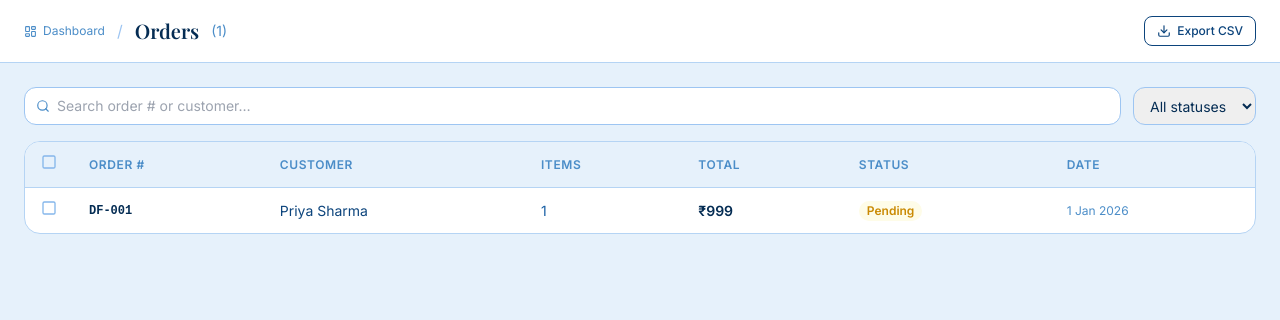
Test: AdminOrdersPage › selects a row and shows the bulk action bar
This screenshot has width=1280, height=320.
Expected: the text "DF-001" is shown, top-left (73, 188), bottom-right (264, 233)
Click the button without text next to "DF-001".
click(49, 208)  # box top-left (41, 200), bottom-right (57, 216)
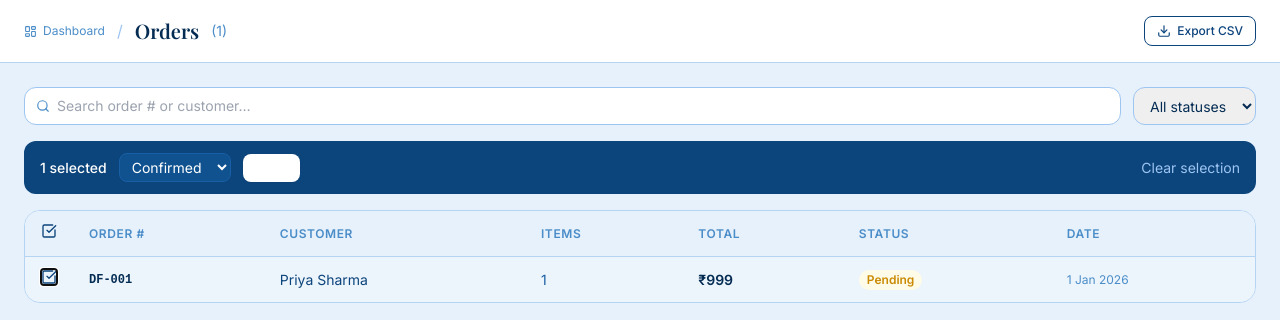
Result: the text "1 selected" is shown at top-left (40, 158), bottom-right (107, 178)
